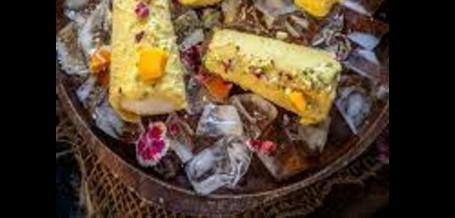Kulfi: (200, 25, 340, 124), (108, 0, 186, 115)
